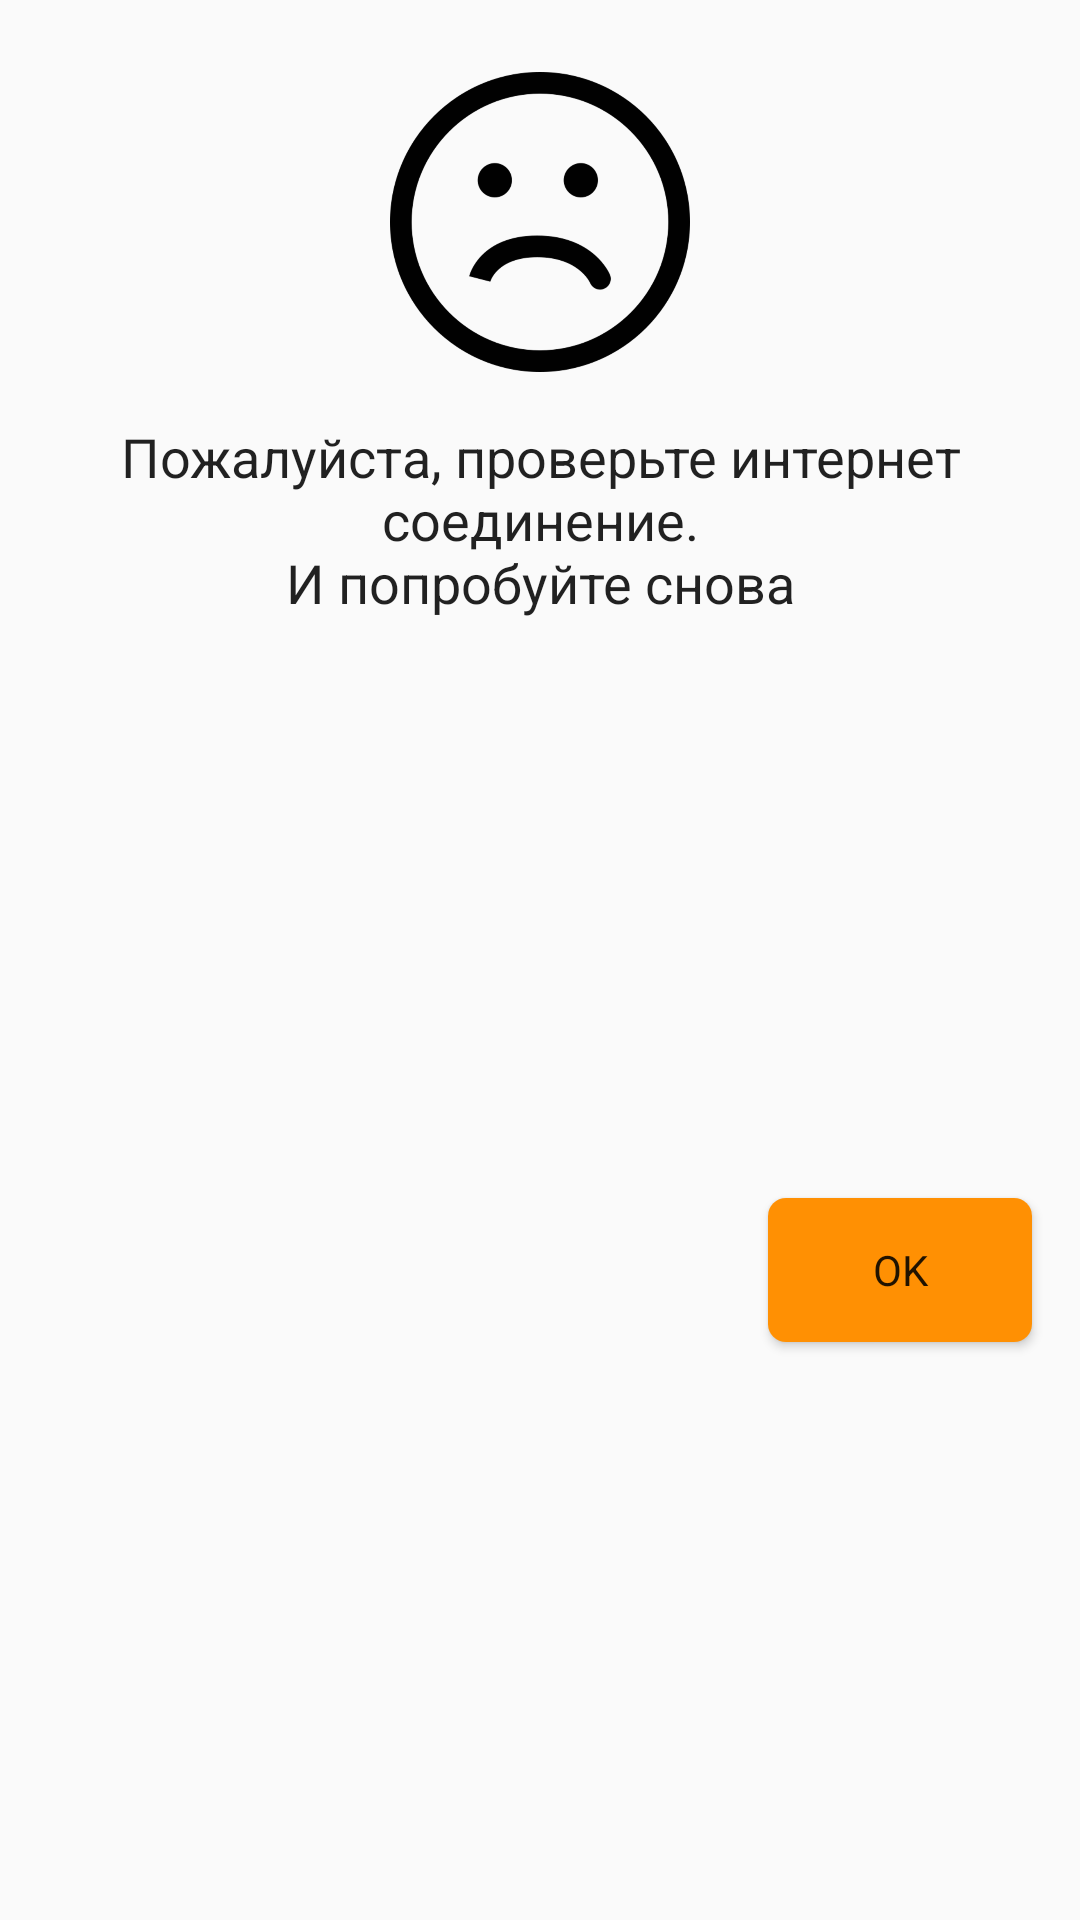

Icon click points for this 1080x1920 phone screenshot, format point (x, y):
connection error: point (540, 222)
